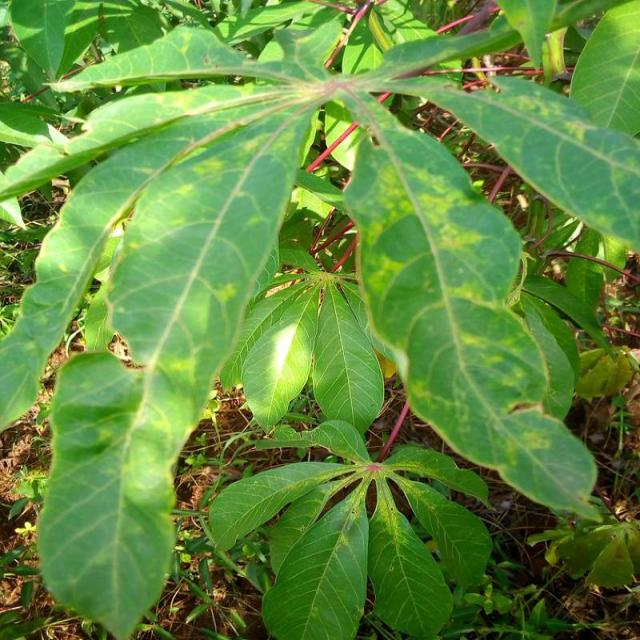cassava leaf: (1, 2, 638, 637), (342, 114, 600, 522)
